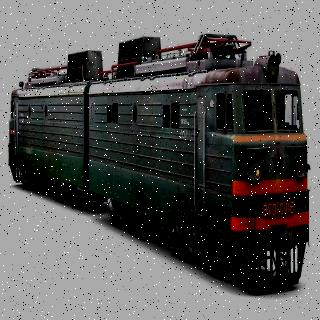poezd: (10, 24, 304, 284)
